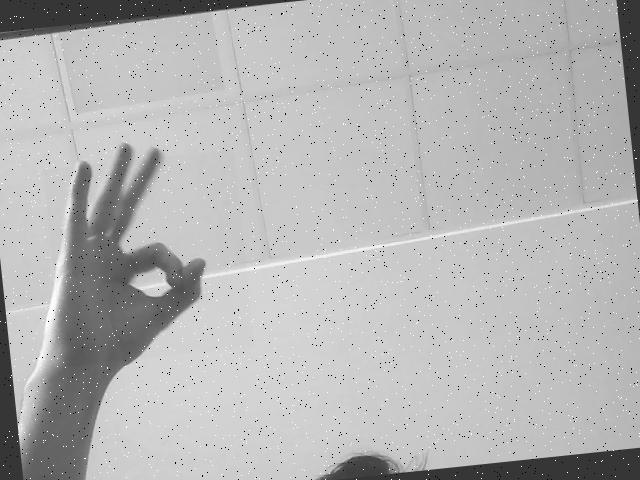OK: (44, 149, 255, 366)
